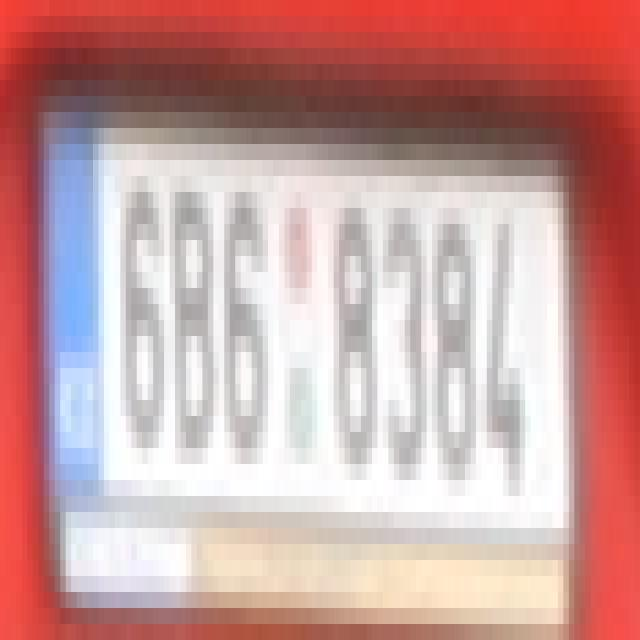3: (383, 208, 427, 496)
4: (486, 192, 530, 512)
6: (208, 176, 262, 464), (115, 176, 164, 448)
8: (323, 192, 372, 480), (432, 192, 476, 480)
B: (164, 176, 208, 464)
